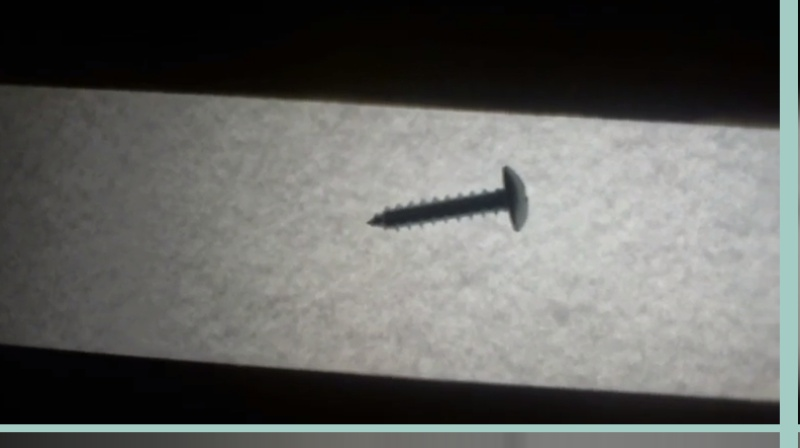S003: (364, 162, 531, 234)
